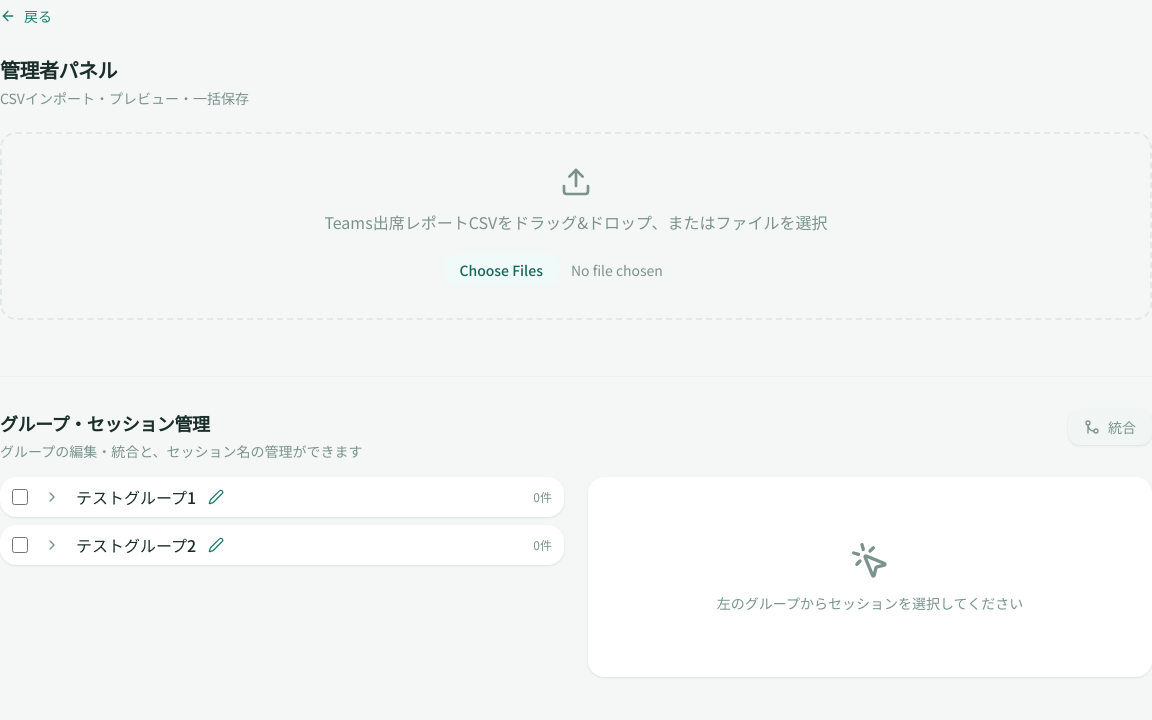
it: AdminPage — グループ管理セクション › 統合実行で mergeGroups と保存処理が呼ばれ、成功メッセージを表示する
Click the checkbox named "テストグループ1 を選択". click: (20, 497)
box: [12,489,28,505]
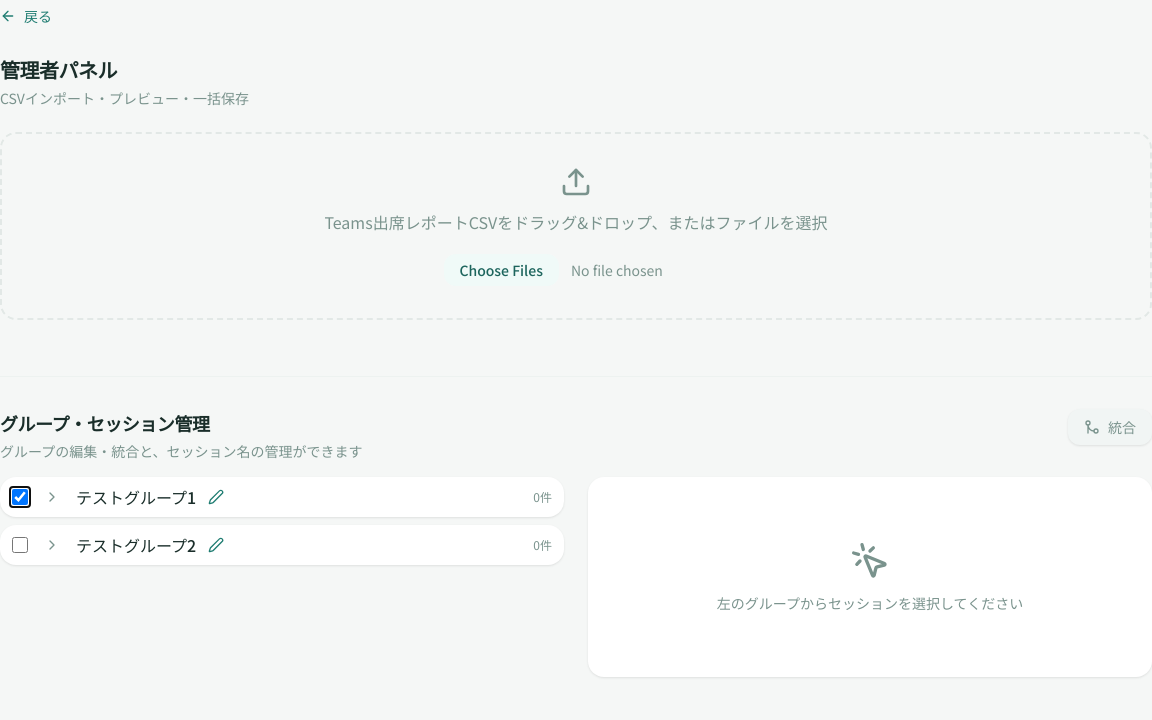
Click the checkbox named "テストグループ2 を選択". click: (20, 545)
box: [12,537,28,553]
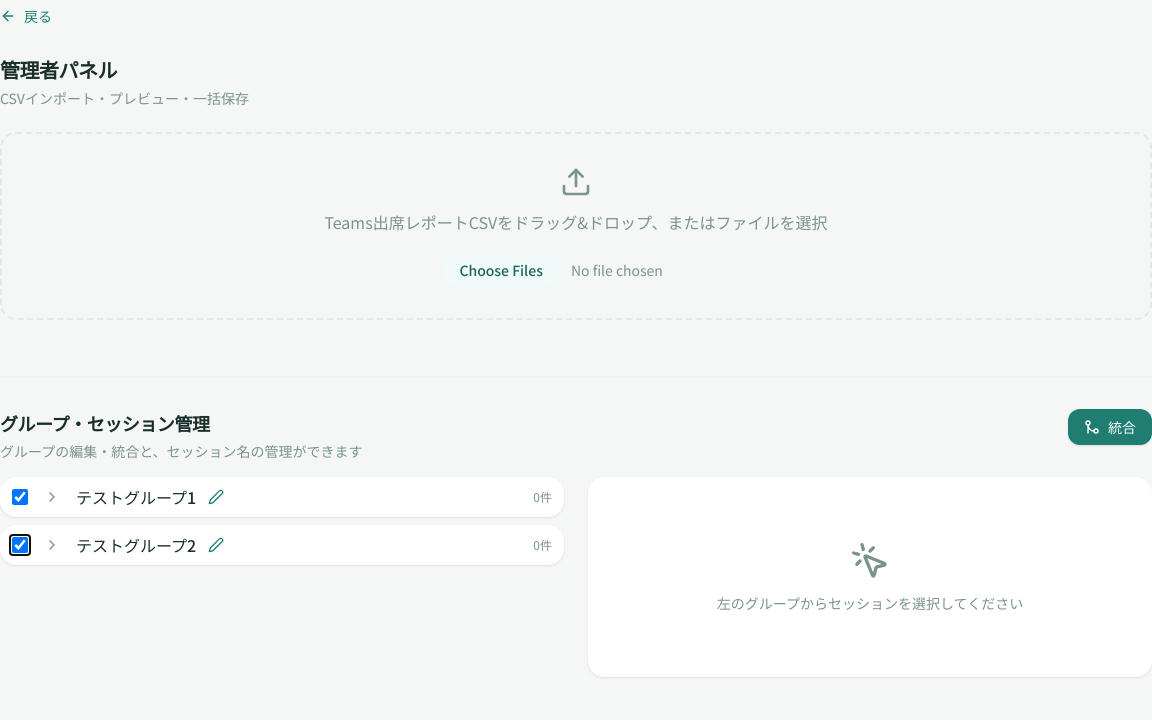
Click the button "統合". click: (1110, 427)
box: [1068,409,1151,445]
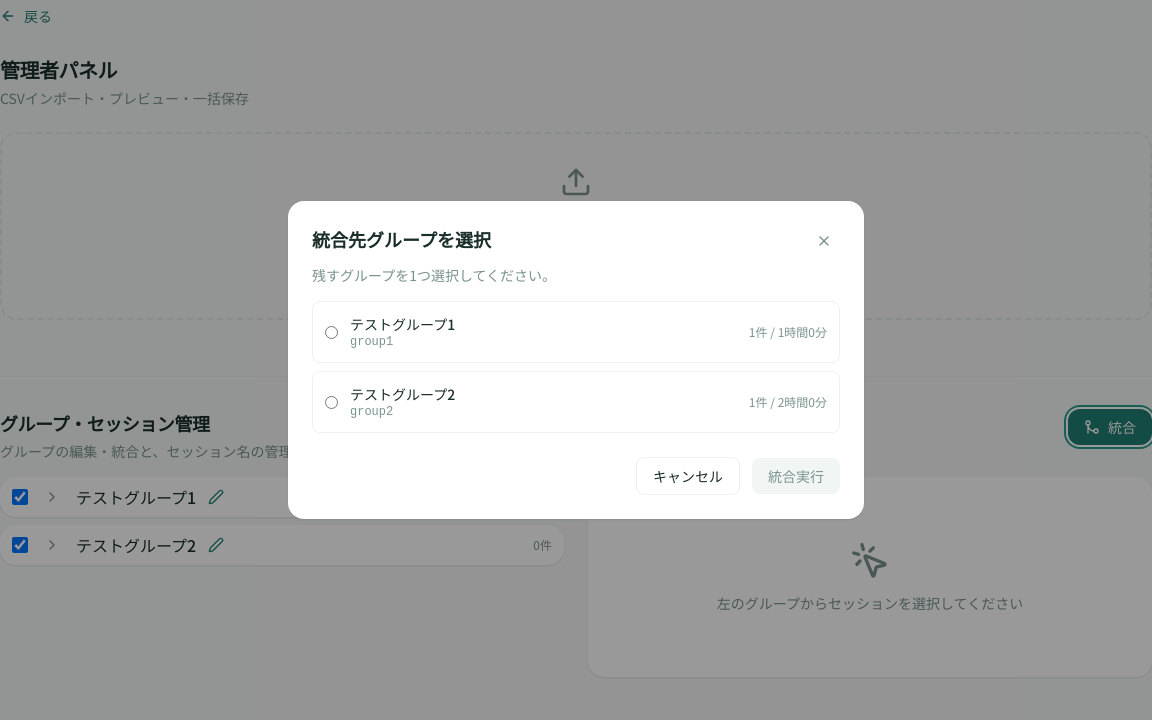
Click the radio button labelled "テストグループ1 group1 1件 / 1時間0分". click: (332, 332)
box: [325,326,338,338]
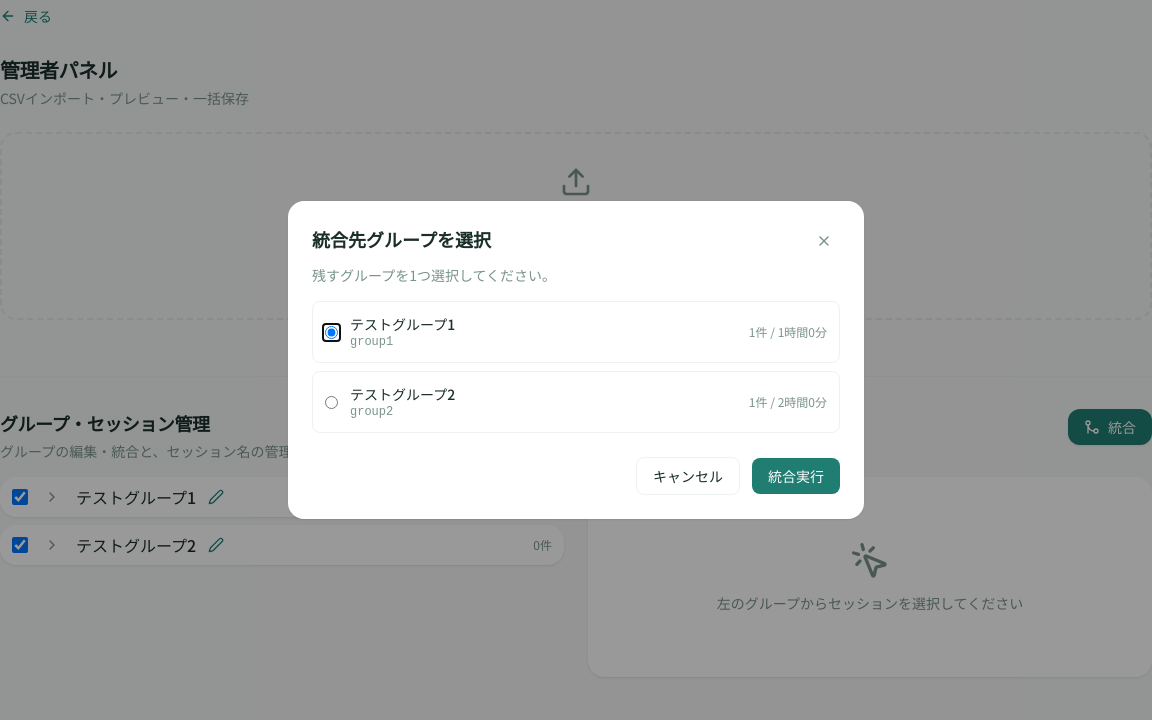
Click the button "統合実行". click: (796, 476)
box: [752,458,840,494]
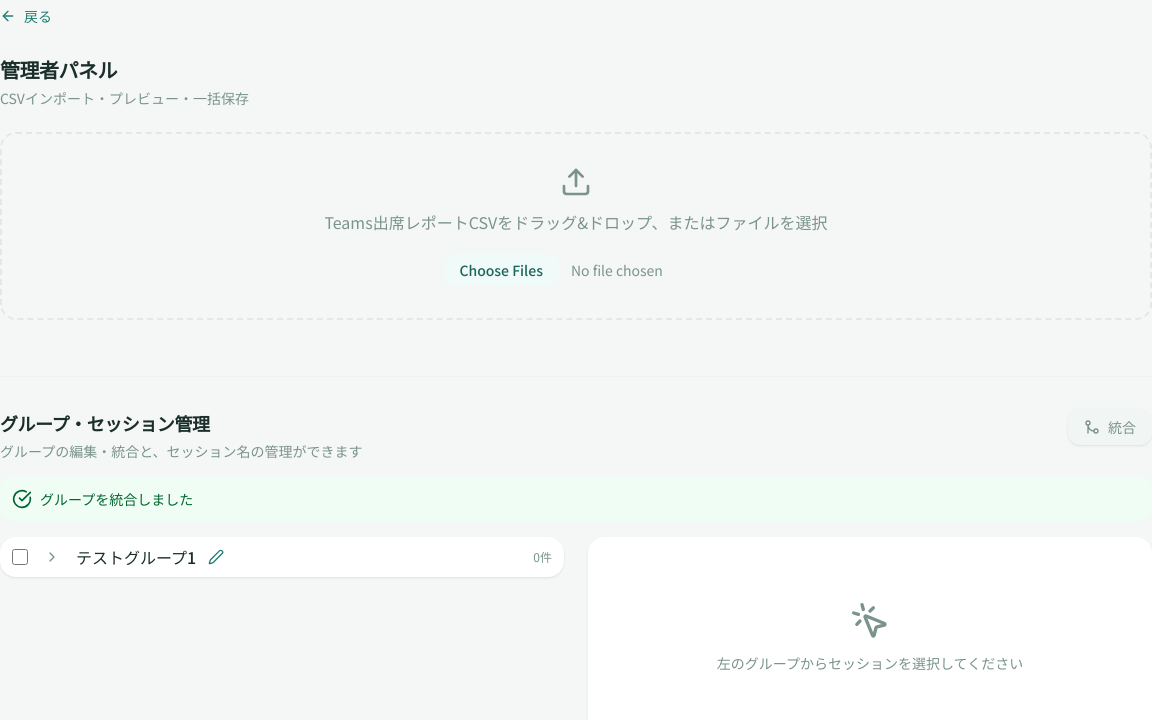
Now the text "グループを統合しました" is shown, box [40,489,193,509]
